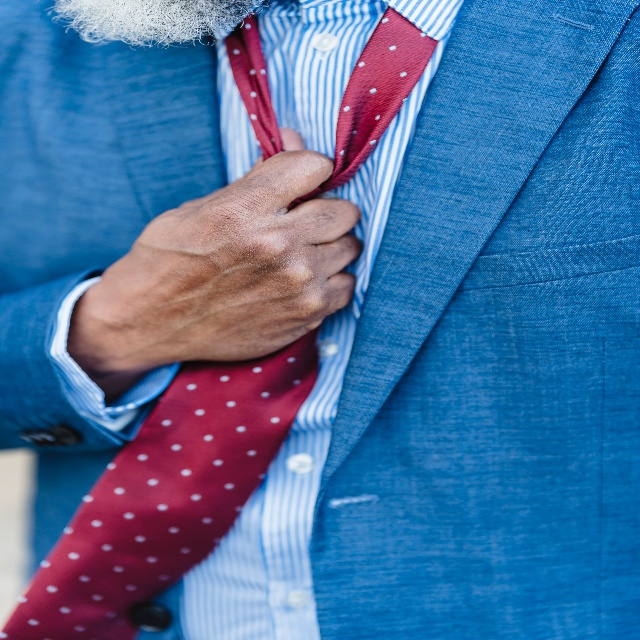Sin_guantes: (136, 151, 374, 351)
